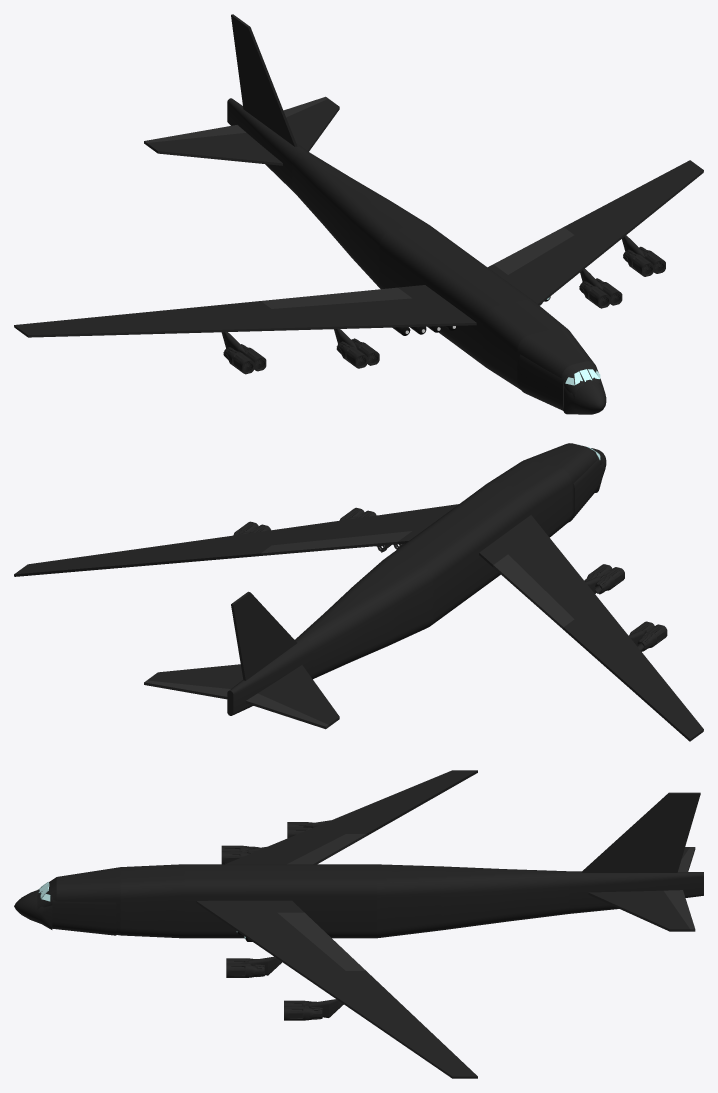
Rendered from Bomber_export.obj.
3 renders of one model, top to bottom at view 1: azimuth 30°, elevation 25°; view 2: azimuth 150°, elevation 25°; view 3: azimuth 270°, elevation 25°, orthographic. The views are drawn at different scales.
Parts seen in each view (by area): view 1: Mesh_18, Mesh_41, Mesh_10, Mesh_11, Mesh_2, Mesh_4, Mesh_5, Mesh_15, Mesh_3, Mesh_6, Mesh_39, Mesh_7 (+7 smaller); view 2: Mesh_18, Mesh_41, Mesh_5, Mesh_4, Mesh_11, Mesh_10, Mesh_6, Mesh_3, Mesh_7, Mesh_2, Mesh_15, Control Surface_19 (+10 smaller); view 3: Mesh_41, Mesh_11, Mesh_18, Mesh_10, Mesh_4, Mesh_5, Mesh_6, Mesh_2, Mesh_7, Mesh_3, Mesh_12, Mesh_39 (+9 smaller).
Part boxes in pixels (<box>): Mesh_18: <box>14,285,476,337</box>; Mesh_41: <box>488,160,703,305</box>; Mesh_10: <box>483,299,567,389</box>; Mesh_11: <box>231,14,297,146</box>; Mesh_2: <box>448,274,531,366</box>; Mesh_4: <box>379,223,462,289</box>; Mesh_5: <box>349,199,426,288</box>; Mesh_15: <box>147,133,282,165</box>; Mesh_3: <box>414,248,497,341</box>; Mesh_6: <box>321,175,387,256</box>; Mesh_39: <box>517,327,593,389</box>; Mesh_7: <box>292,151,347,222</box>; Mesh_18: <box>479,515,703,741</box>; Mesh_41: <box>14,504,458,576</box>; Mesh_5: <box>354,558,433,644</box>; Mesh_4: <box>385,532,467,625</box>; Mesh_11: <box>231,591,296,680</box>; Mesh_10: <box>488,460,571,537</box>; Mesh_6: <box>325,584,394,662</box>; Mesh_3: <box>419,507,502,600</box>; Mesh_7: <box>296,611,353,678</box>; Mesh_2: <box>453,482,537,574</box>; Mesh_15: <box>258,665,339,726</box>; Control Surface_19: <box>493,554,574,629</box>; Mesh_41: <box>196,900,477,1078</box>; Mesh_11: <box>581,792,700,872</box>; Mesh_18: <box>225,770,477,864</box>; Mesh_10: <box>120,864,184,938</box>; Mesh_4: <box>313,864,376,938</box>; Mesh_5: <box>377,864,441,938</box>; Mesh_6: <box>441,866,505,930</box>; Mesh_2: <box>184,864,248,938</box>; Mesh_7: <box>505,869,569,921</box>; Mesh_3: <box>249,864,312,919</box>; Mesh_12: <box>588,890,690,931</box>; Mesh_39: <box>56,867,120,935</box>.
Size of the model in its own units: 28.26 by 5.9 by 26.91.
Materials: 1 (1 with a texture image).
